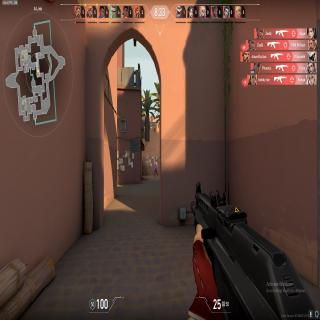ENEMY-BODY: (154, 160, 158, 177)
ENEMY-HEAD: (156, 160, 156, 163)
